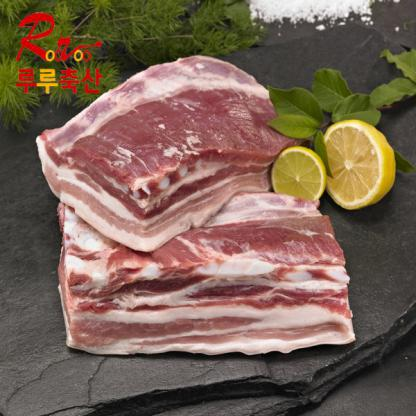pork: (43, 53, 356, 356)
